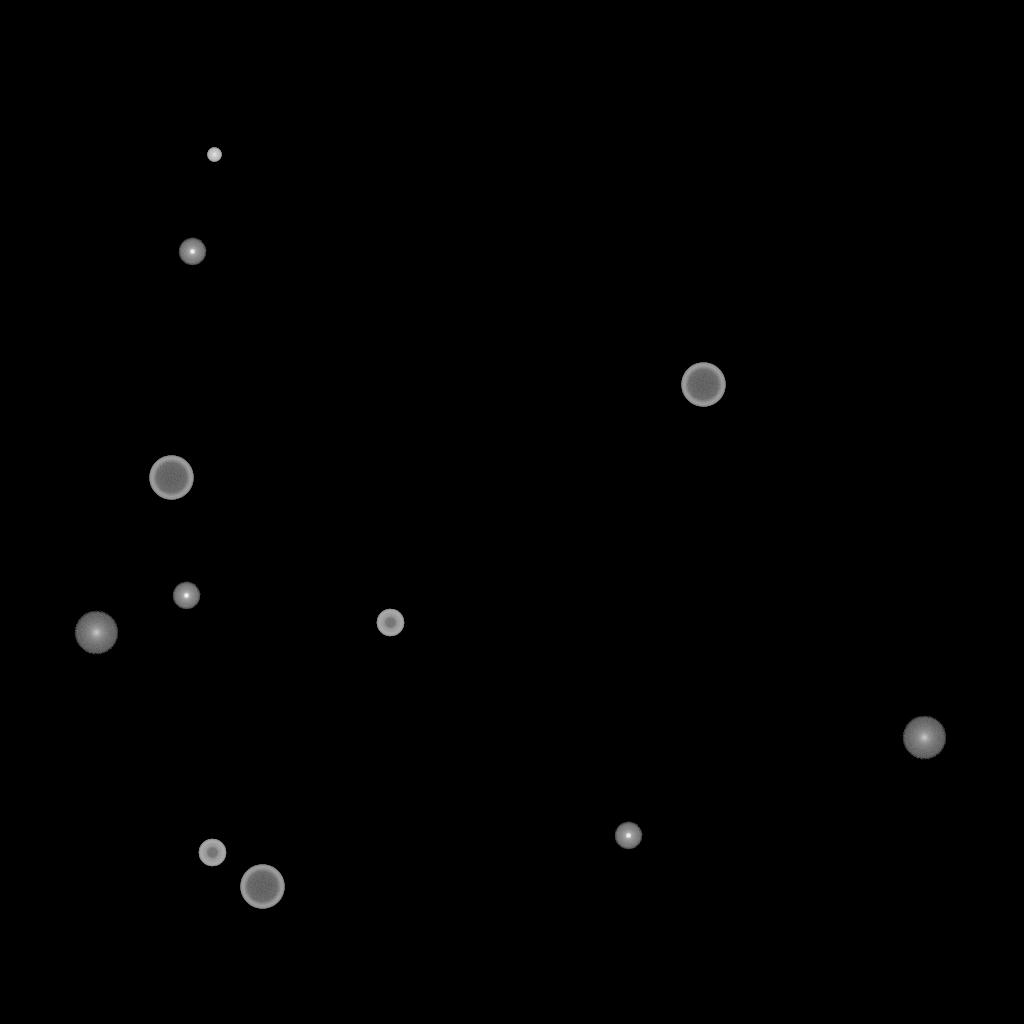depth:-10: (172, 582, 200, 610), (178, 238, 206, 266), (614, 822, 642, 850)
depth:-30: (207, 148, 221, 162)
depth:-50: (198, 839, 226, 867), (376, 609, 404, 637)
depth:-70: (149, 456, 193, 500), (240, 865, 284, 909), (681, 363, 725, 407)
depth:10: (74, 611, 118, 655), (902, 716, 946, 760)
